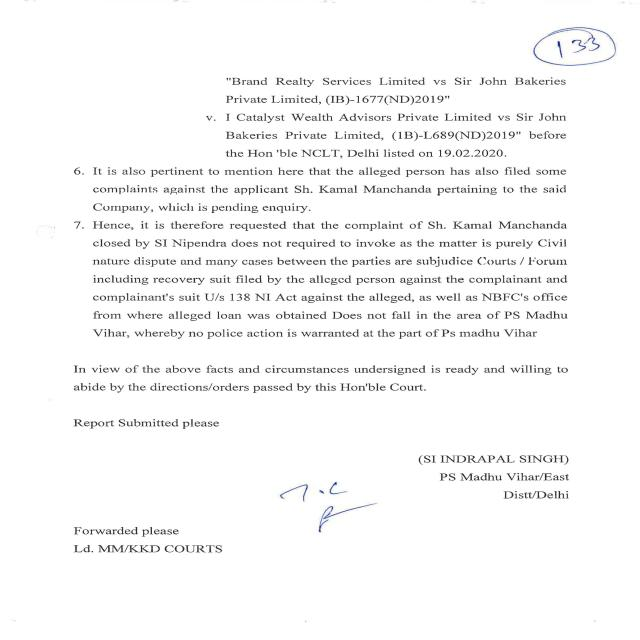page-number: (382, 0, 640, 69)
